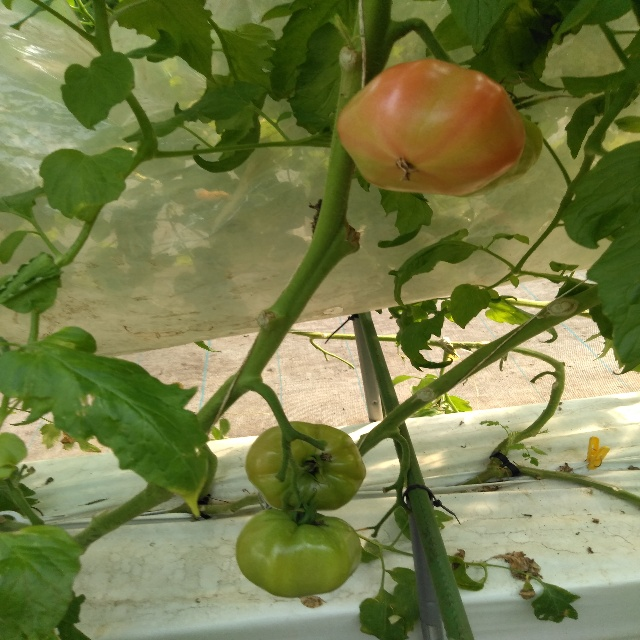b_green: (236, 507, 362, 598), (244, 421, 367, 511)
b_half_ripened: (338, 58, 527, 196)
